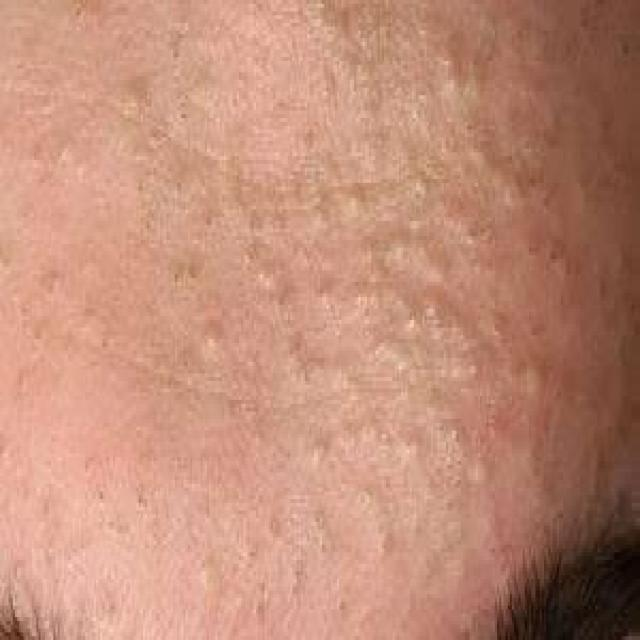dark spot: (54, 427, 150, 579), (521, 141, 576, 316), (152, 15, 216, 164), (19, 255, 73, 389), (452, 80, 491, 187), (322, 583, 363, 640), (166, 248, 190, 308)
